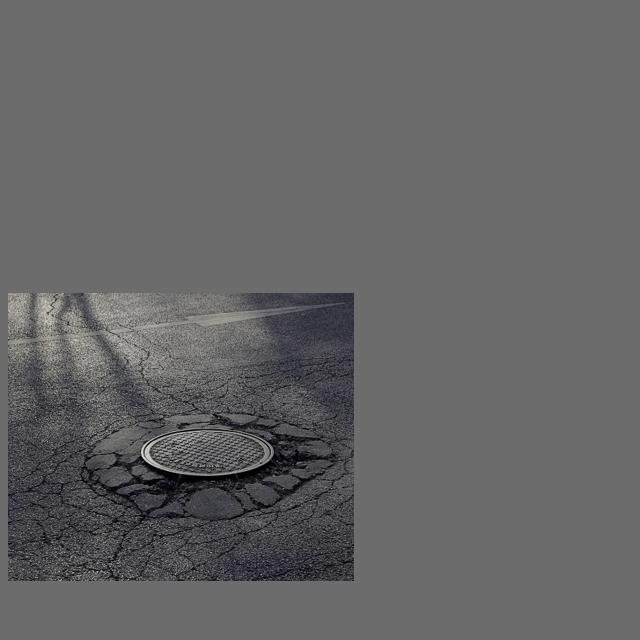circle: (80, 399, 321, 532)
